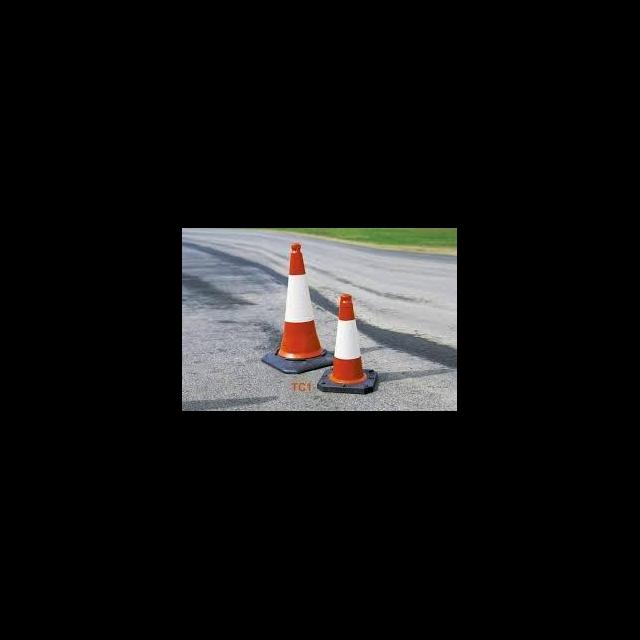Safety Cone: (264, 245, 336, 375), (318, 294, 377, 395)
